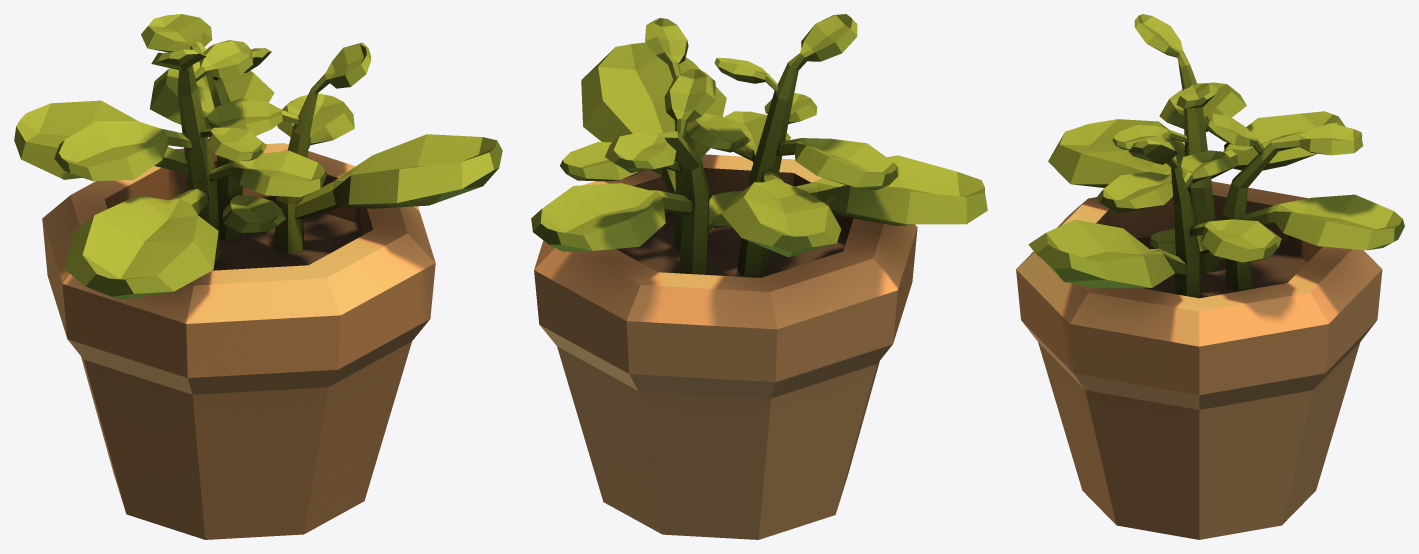
The model's file is House plant.glb.
The picture shows the model from 3 angles, left to right: view 1: azimuth 30°, elevation 25°; view 2: azimuth 150°, elevation 25°; view 3: azimuth 270°, elevation 25°; orthographic projection. The views are drawn at different scales.
Visible parts, largest first — view 1: House_plant_; view 2: House_plant_; view 3: House_plant_.
Boxes of the visible parts, bbox=[...] form: House_plant_: bbox=[14, 14, 502, 539]; House_plant_: bbox=[531, 14, 987, 539]; House_plant_: bbox=[1016, 14, 1404, 539].
Size of the model in its own units: 1.6 by 1.8 by 1.46.
3 materials, 3 textured.
